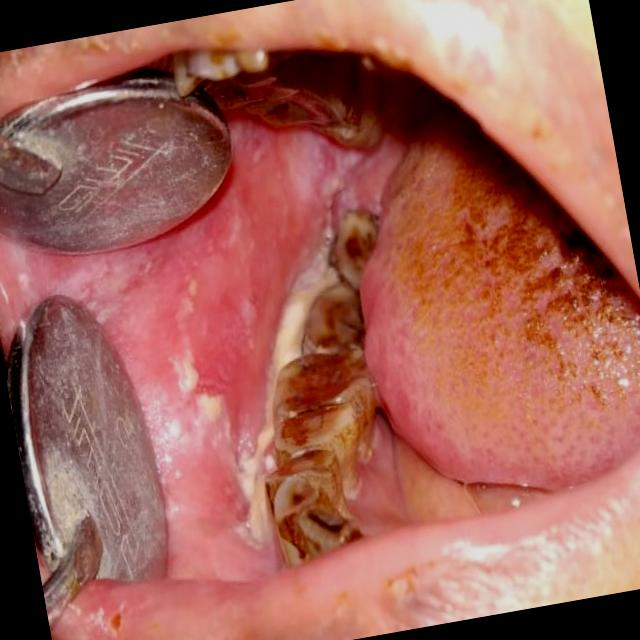Cancer: (149, 186, 349, 464), (406, 194, 629, 382)
